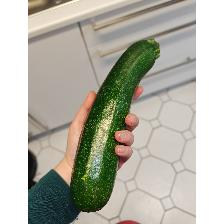Zucchini: (69, 38, 161, 214)
